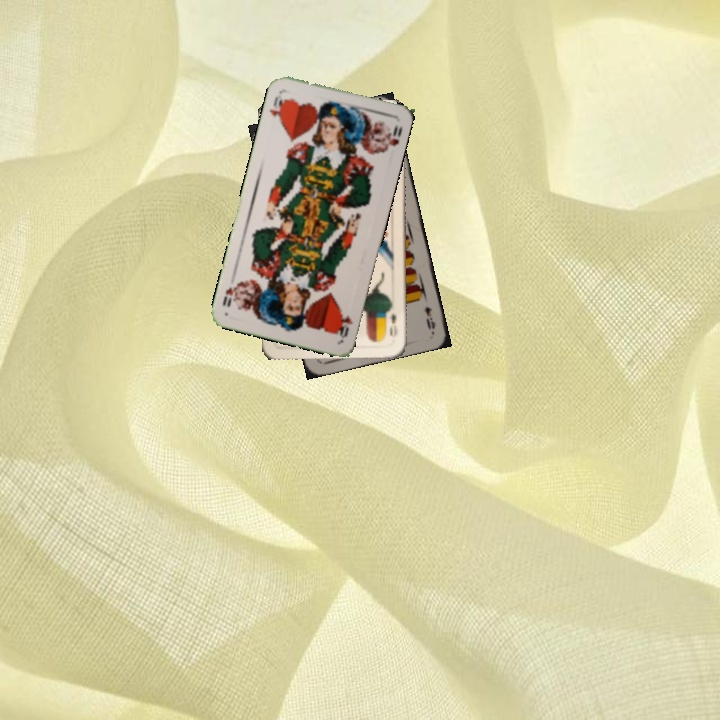E9: (420, 303, 438, 332)
EO: (386, 309, 401, 341)
HO: (265, 89, 288, 127), (333, 310, 355, 341)
